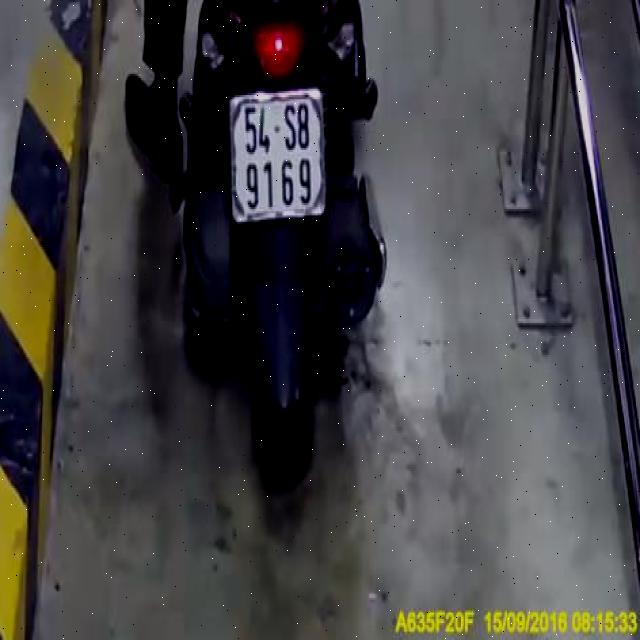1: (262, 160, 278, 211)
4: (257, 104, 272, 160)
5: (242, 101, 258, 155)
6: (280, 157, 295, 209)
8: (298, 102, 310, 149)
9: (296, 152, 314, 210), (244, 160, 259, 211)
S: (282, 99, 298, 152)
